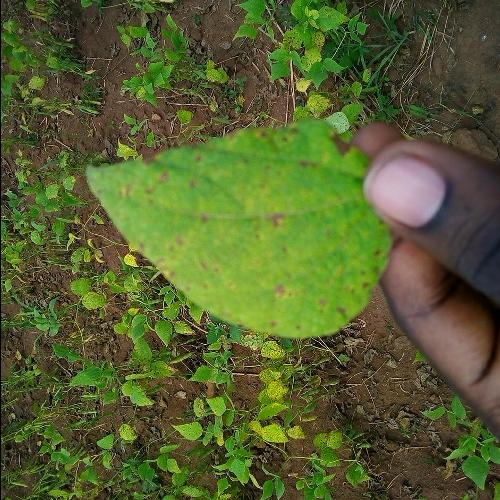hawar: (150, 145, 370, 324)
